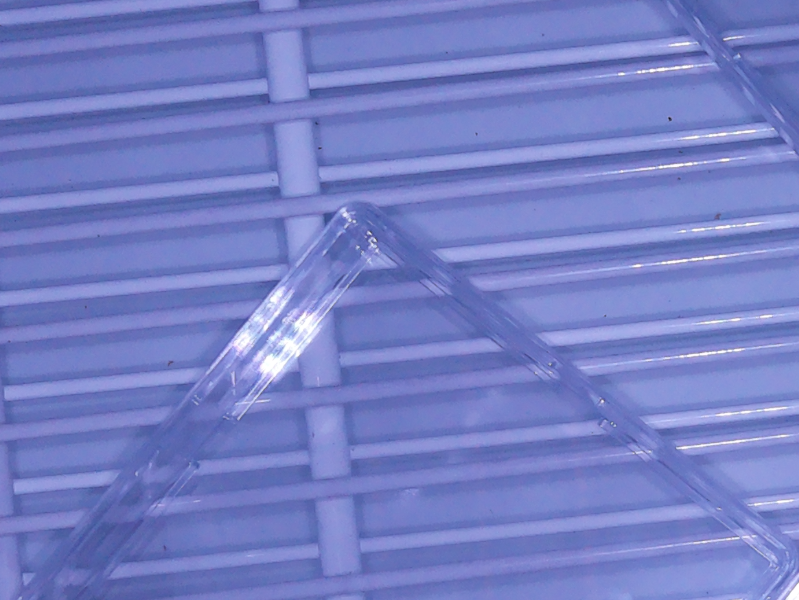plate: (26, 199, 799, 600), (655, 1, 798, 156)
